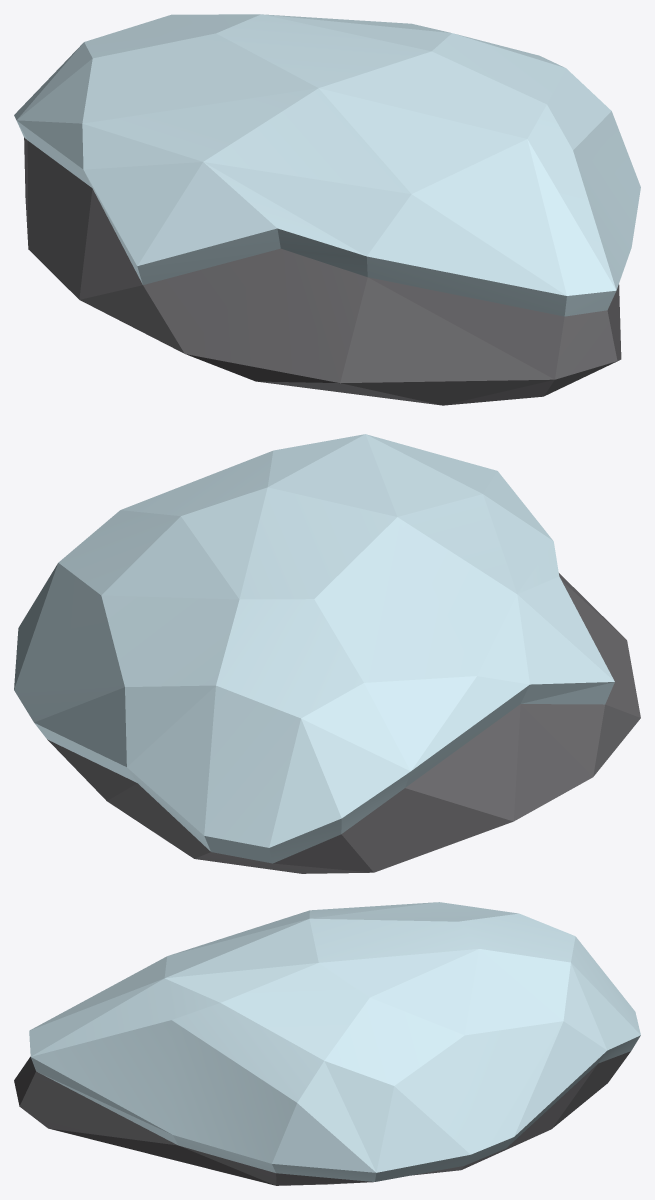
Rendered from Roca05.glb.
3 renders of one model, top to bottom at view 1: azimuth 30°, elevation 25°; view 2: azimuth 150°, elevation 25°; view 3: azimuth 270°, elevation 25°, orthographic. The views are drawn at different scales.
Parts seen in each view (by area): view 1: SM_Env_Rock_04_Snow; view 2: SM_Env_Rock_04_Snow; view 3: SM_Env_Rock_04_Snow.
Boxes of the visible parts, x1,y1,x2,y2 form: SM_Env_Rock_04_Snow: [14, 14, 640, 405]; SM_Env_Rock_04_Snow: [14, 434, 640, 873]; SM_Env_Rock_04_Snow: [14, 902, 640, 1185].
Size of the model in its own units: 1.42 by 0.5768 by 1.77.
Materials: 1 (1 with a texture image).
